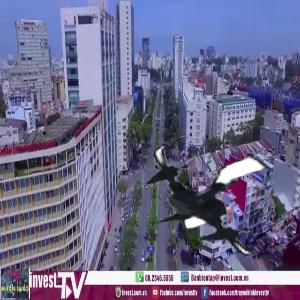drone: (145, 123, 294, 272)
